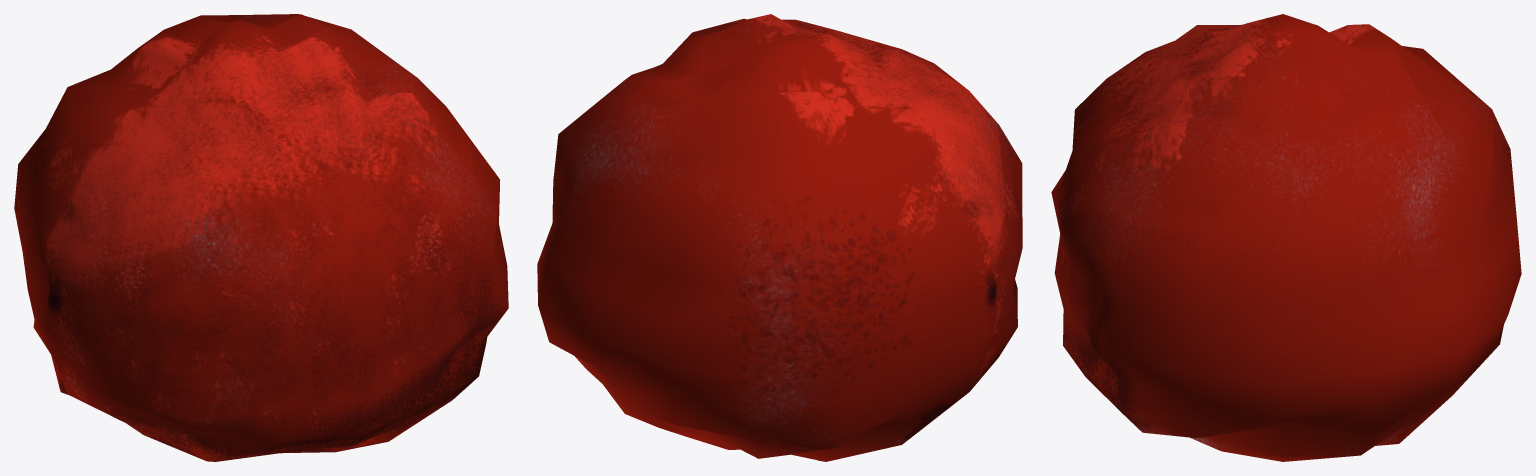
Rendered from ChaosZooGrass.fbx.
The picture shows the model from 3 angles, left to right: view 1: azimuth 30°, elevation 25°; view 2: azimuth 150°, elevation 25°; view 3: azimuth 270°, elevation 25°; orthographic projection.
Visible parts, largest first — view 1: pCube80; view 2: pCube80; view 3: pCube80.
Part boxes in pixels (x1=…): pCube80: x1=14, y1=14, x2=508, y2=461; pCube80: x1=537, y1=14, x2=1022, y2=461; pCube80: x1=1051, y1=14, x2=1521, y2=461.
Size of the model in its own units: 6.12 by 5.23 by 5.84.
